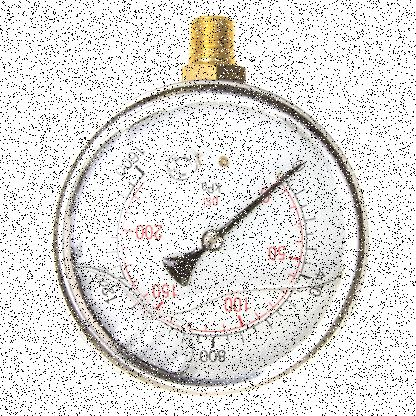needle: (216, 162, 304, 238)
